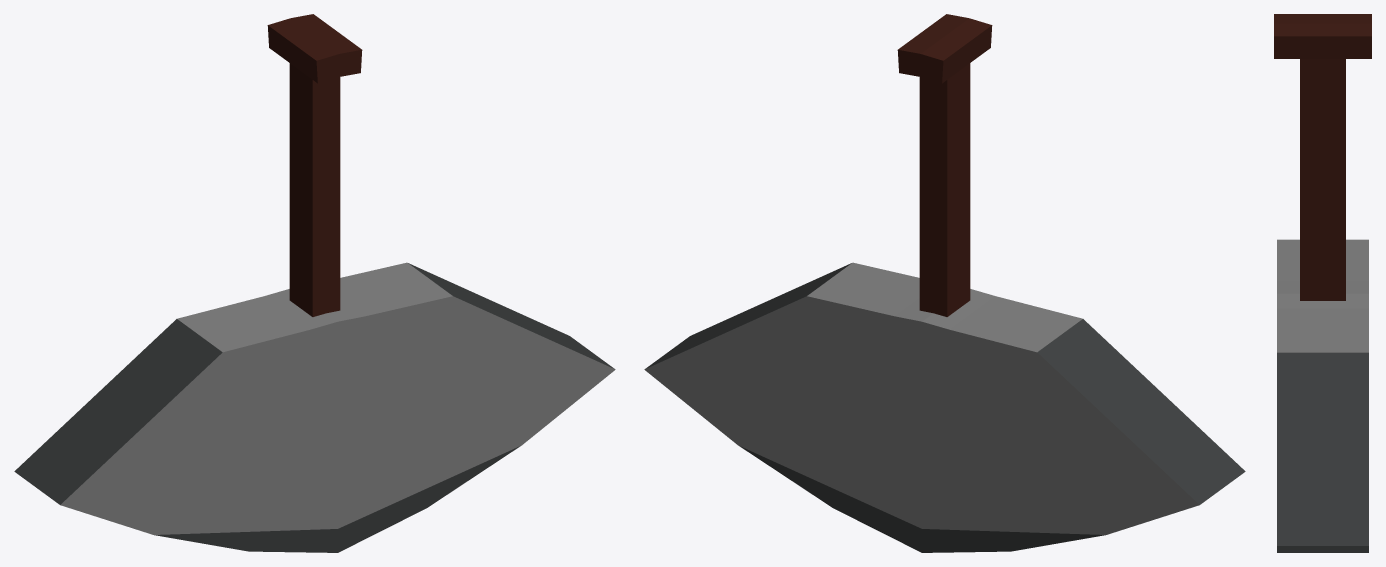
The model's file is axe.fbx.
The picture shows the model from 3 angles, left to right: view 1: azimuth 30°, elevation 25°; view 2: azimuth 150°, elevation 25°; view 3: azimuth 270°, elevation 25°; orthographic projection.
Visible parts, largest first — view 1: Cube; view 2: Cube; view 3: Cube.
Boxes of the visible parts, x1=… form: Cube: x1=14, y1=14, x2=615, y2=552; Cube: x1=644, y1=14, x2=1245, y2=552; Cube: x1=1274, y1=14, x2=1371, y2=552.
Bounding box in the file's own units: 641 × 551 × 97.49.
